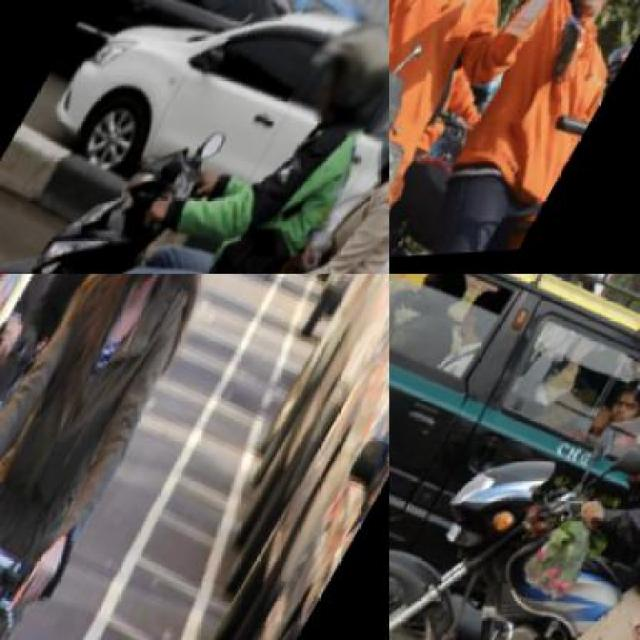With Helmet: (281, 0, 387, 152), (350, 56, 388, 212)
Without Helmet: (573, 0, 638, 18)
